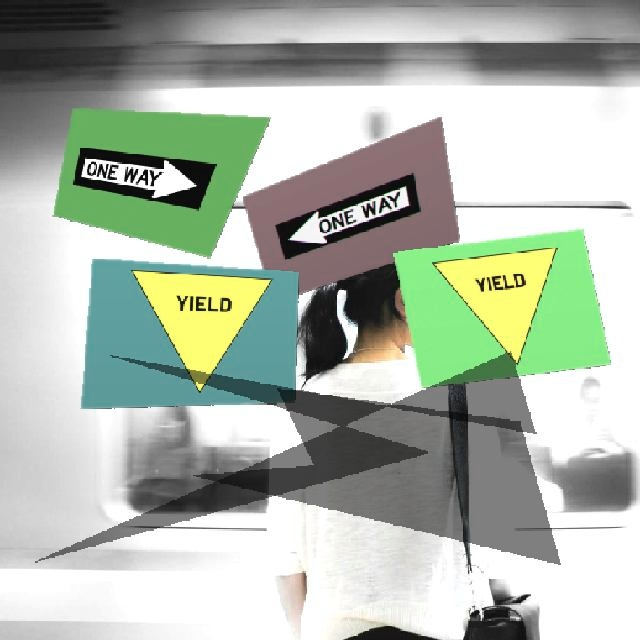ONE_WAY_ left: (269, 172, 425, 259)
ONE_WAY_ right: (71, 145, 216, 210)
YIELD: (122, 269, 273, 398), (431, 246, 580, 372)
